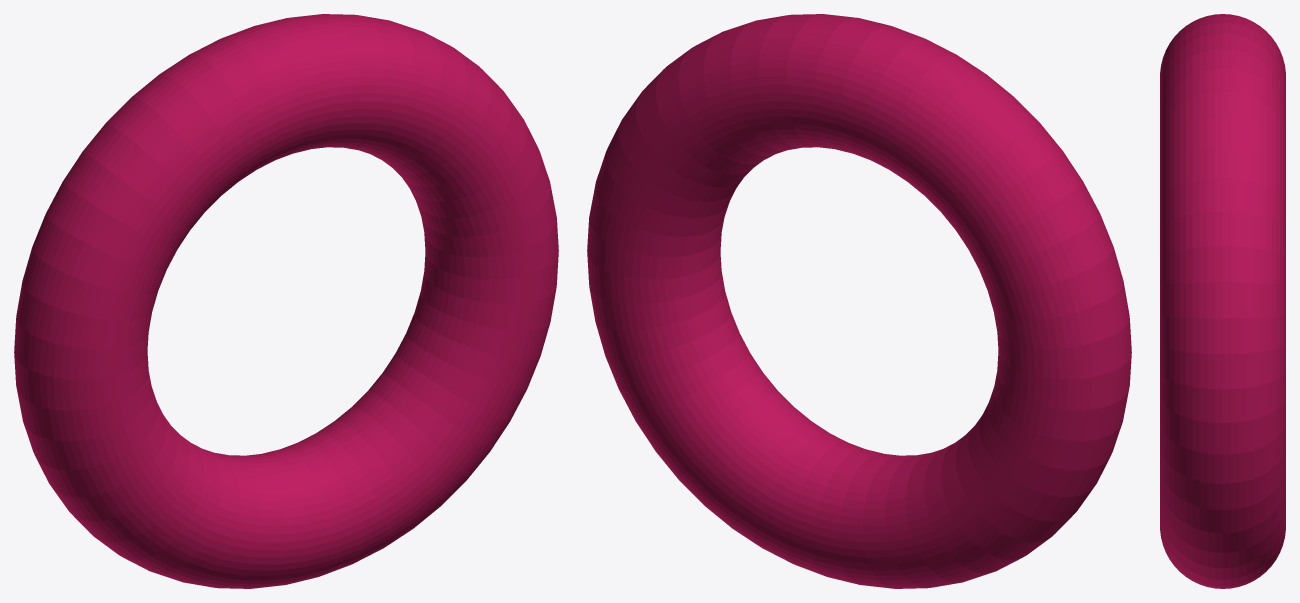
The picture shows the model from 3 angles, left to right: view 1: azimuth 30°, elevation 25°; view 2: azimuth 150°, elevation 25°; view 3: azimuth 270°, elevation 25°; orthographic projection. The views are drawn at different scales.
Parts seen in each view (by area): view 1: world; view 2: world; view 3: world.
Boxes of the visible parts, box(x1,y1,x2,y2) form: world: box(14, 14, 558, 588); world: box(587, 14, 1131, 588); world: box(1160, 14, 1285, 588).
Size of the model in its own units: 35.87 by 35.8 by 7.85.
